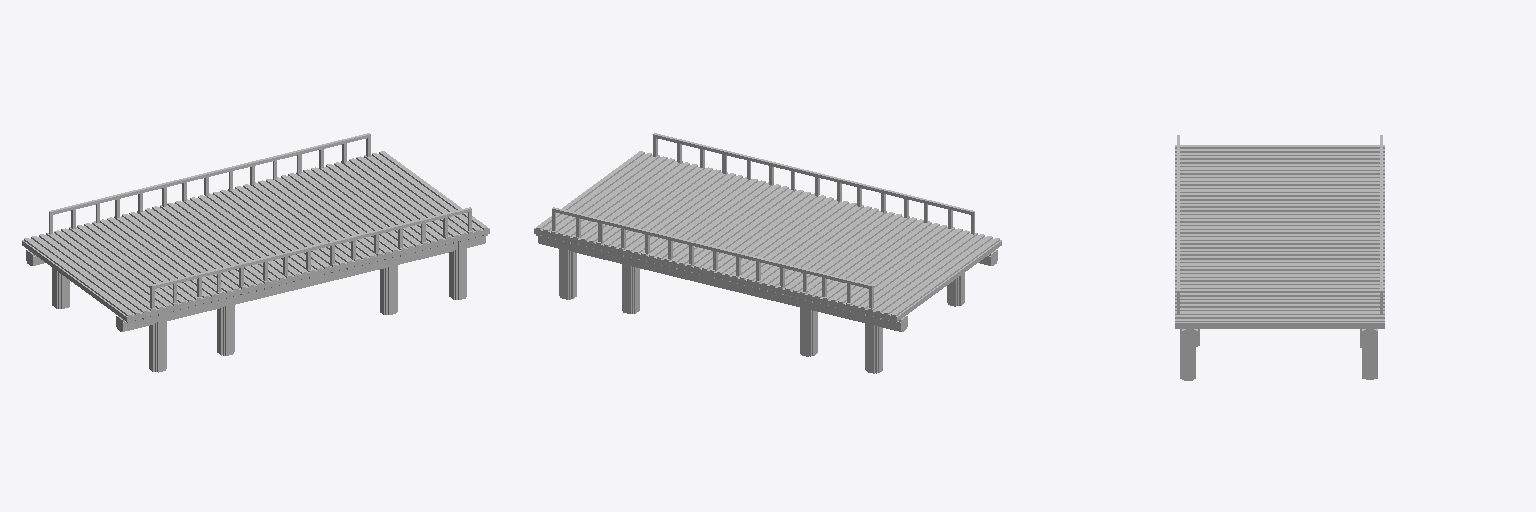
Rendered from Bridge.obj.
3 views of the same model, side by side, from view 1: azimuth 30°, elevation 25°; view 2: azimuth 150°, elevation 25°; view 3: azimuth 270°, elevation 25° (orthographic).
Parts seen in each view (by area): view 1: object 1; view 2: object 1; view 3: object 1.
Boxes of the visible parts, <box> form: object 1: <box>22,133,489,372</box>; object 1: <box>534,133,1001,373</box>; object 1: <box>1175,135,1384,380</box>.
Size of the model in its own units: 24 by 5.7 by 12.